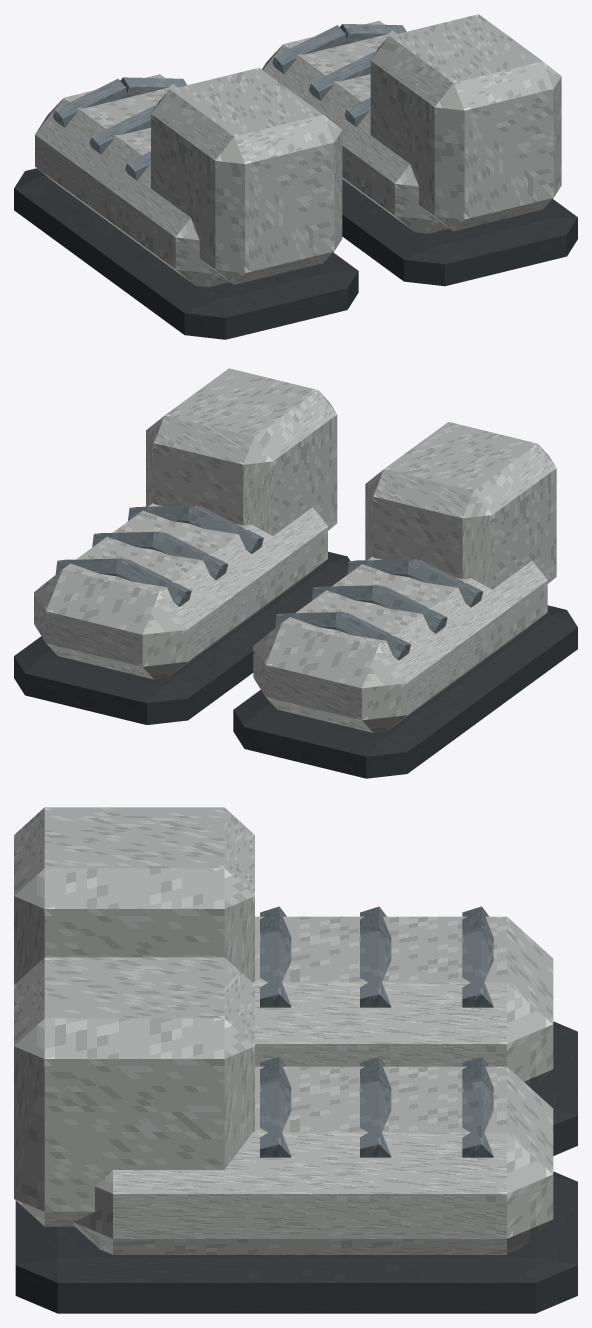
File: foot_protectors_eod.glb
3 views of the same model, one above another, from view 1: azimuth 30°, elevation 25°; view 2: azimuth 150°, elevation 25°; view 3: azimuth 270°, elevation 25° (orthographic). The views are drawn at different scales.
Visible parts, largest first — view 1: block_boot shaft (×2), block_thick boot sole (×2), block_boot toe and foot (×2), block_reinforcing band 0 (×6), block_reinforcing band 1 (×2); view 2: block_boot toe and foot (×2), block_boot shaft (×2), block_thick boot sole (×2), block_reinforcing band 0 (×6), block_reinforcing band 1 (×6); view 3: block_boot toe and foot (×2), block_boot shaft (×2), block_thick boot sole (×2), block_reinforcing band 1 (×6), block_reinforcing band 0 (×6).
Boxes of the visible parts, x1=… form: block_boot shaft (×2): x1=151, y1=14, x2=561, y2=284; block_thick boot sole (×2): x1=14, y1=168, x2=577, y2=339; block_boot toe and foot (×2): x1=35, y1=20, x2=449, y2=287; block_reinforcing band 0 (×6): x1=53, y1=25, x2=374, y2=180; block_reinforcing band 1 (×2): x1=120, y1=24, x2=406, y2=97; block_boot toe and foot (×2): x1=34, y1=503, x2=547, y2=732; block_boot shaft (×2): x1=146, y1=368, x2=556, y2=589; block_thick boot sole (×2): x1=14, y1=551, x2=577, y2=778; block_reinforcing band 0 (×6): x1=116, y1=506, x2=483, y2=660; block_reinforcing band 1 (×6): x1=55, y1=505, x2=417, y2=629; block_boot toe and foot (×2): x1=73, y1=916, x2=553, y2=1254; block_boot shaft (×2): x1=14, y1=807, x2=254, y2=1226; block_thick boot sole (×2): x1=15, y1=1021, x2=577, y2=1313; block_reinforcing band 1 (×6): x1=260, y1=930, x2=493, y2=1157; block_reinforcing band 0 (×6): x1=260, y1=906, x2=493, y2=1092.
Bounding box in the file's own units: 0.3836 × 0.1831 × 0.3399.
Materials: 1 (1 with a texture image).
